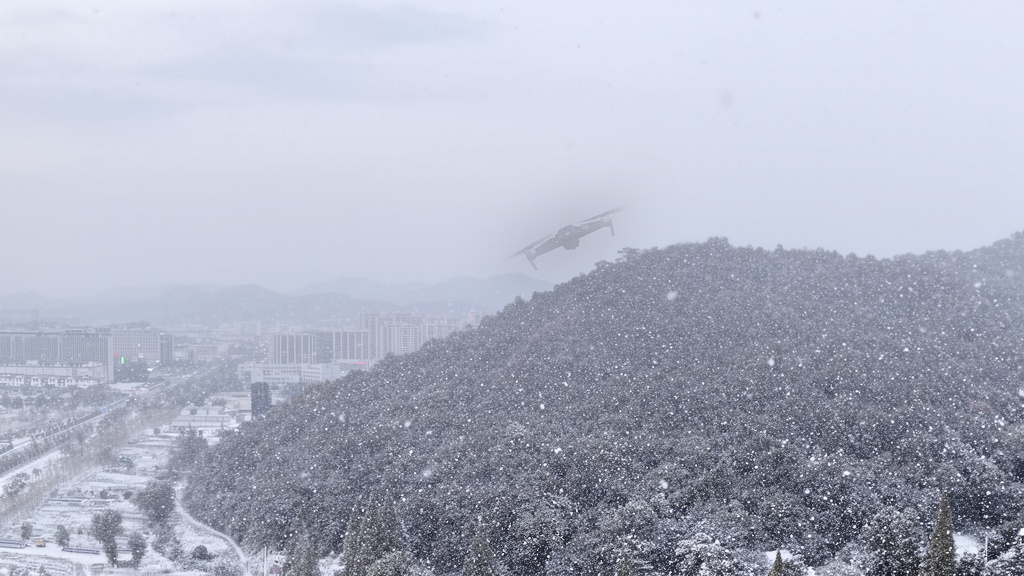UAV: (500, 202, 635, 271)
